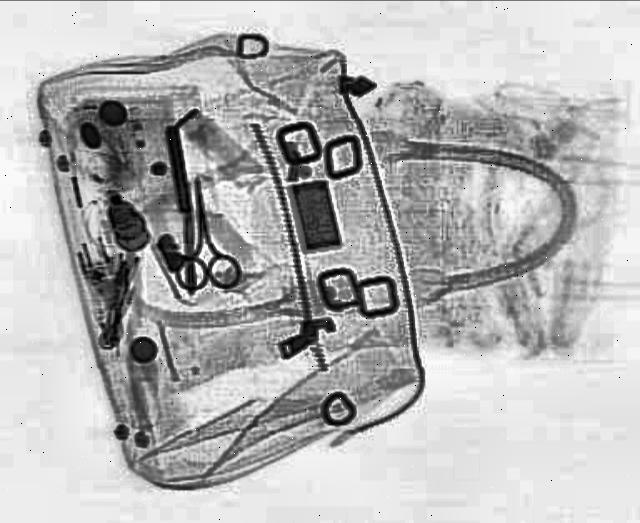Scissors: (164, 174, 246, 290)
